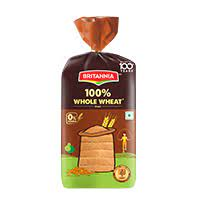bread: (53, 14, 140, 194)
